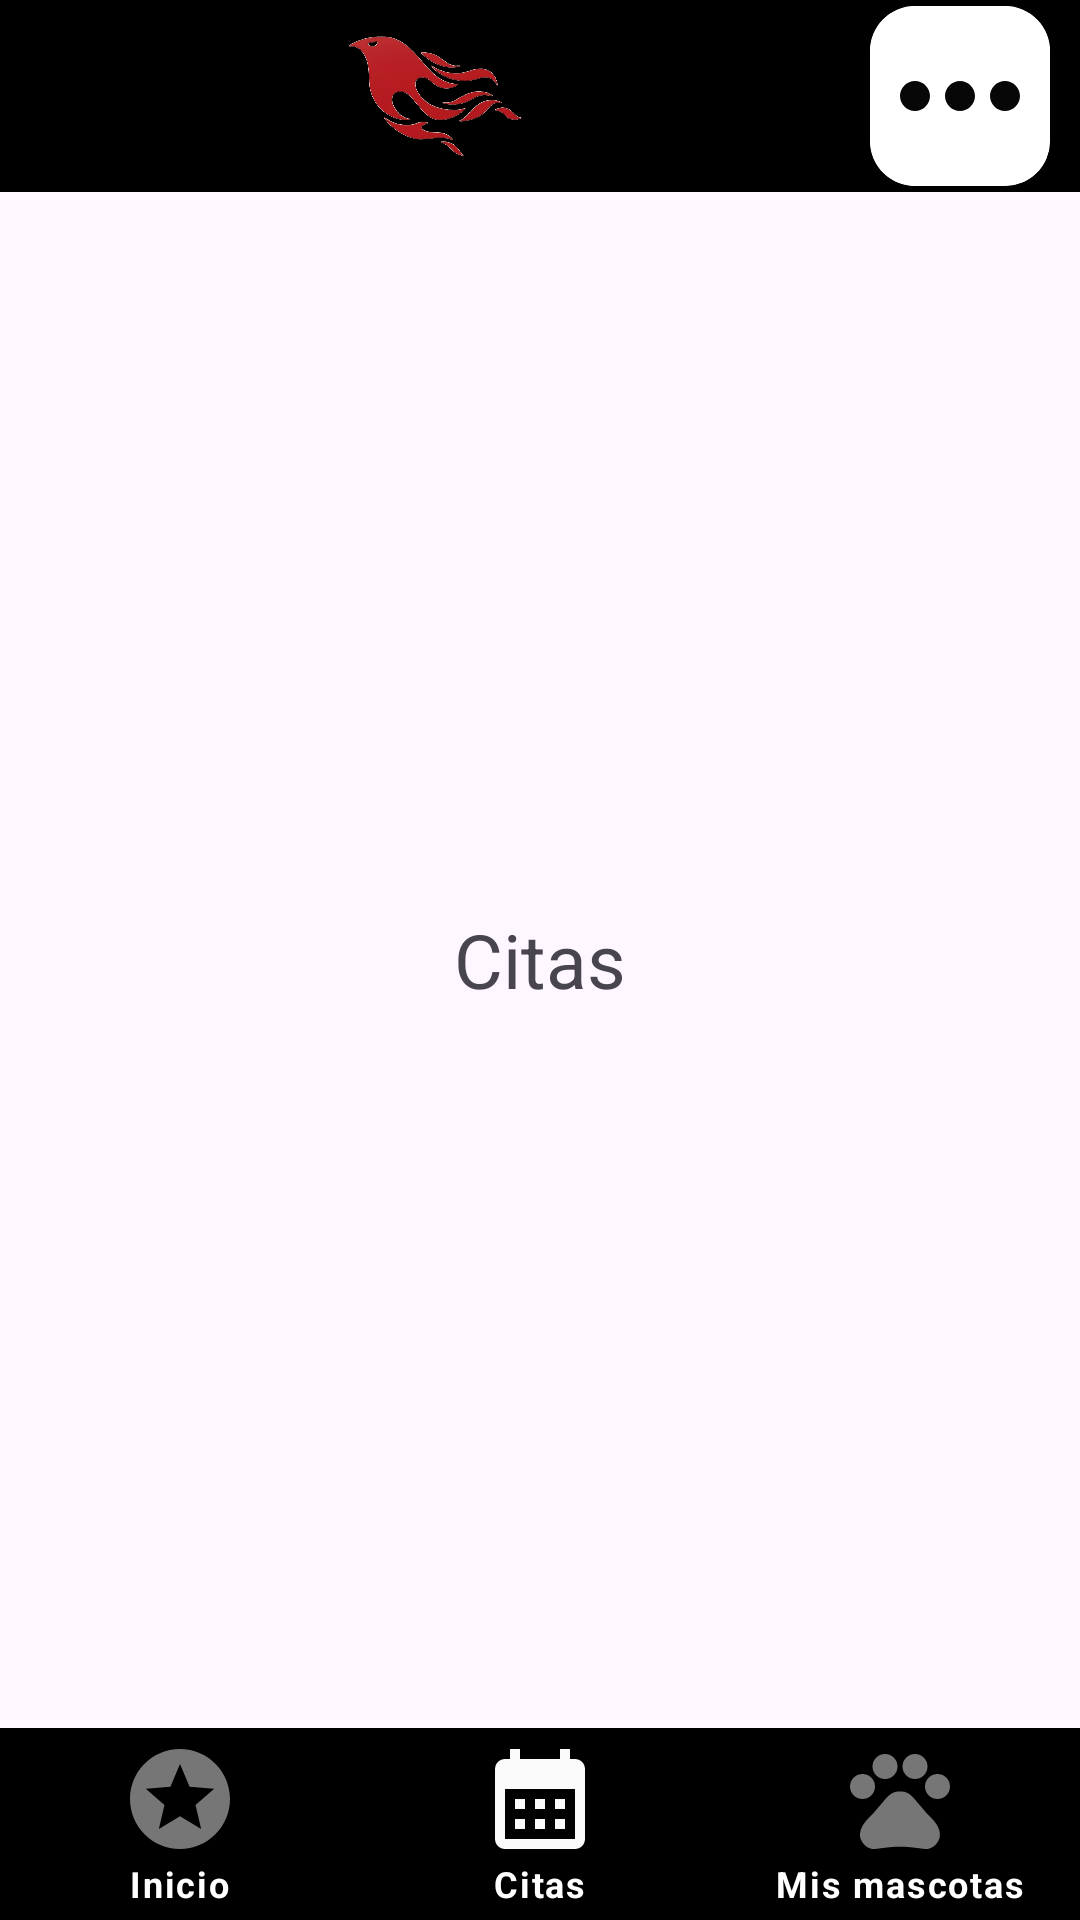

Icons on this 1080w x 1920h Android screen, each with its box as detection(x1, y1, x2, y2):
calendar month: detection(495, 1749, 585, 1849)
more horiz: detection(870, 6, 1050, 186)
stars: detection(130, 1749, 230, 1849)
